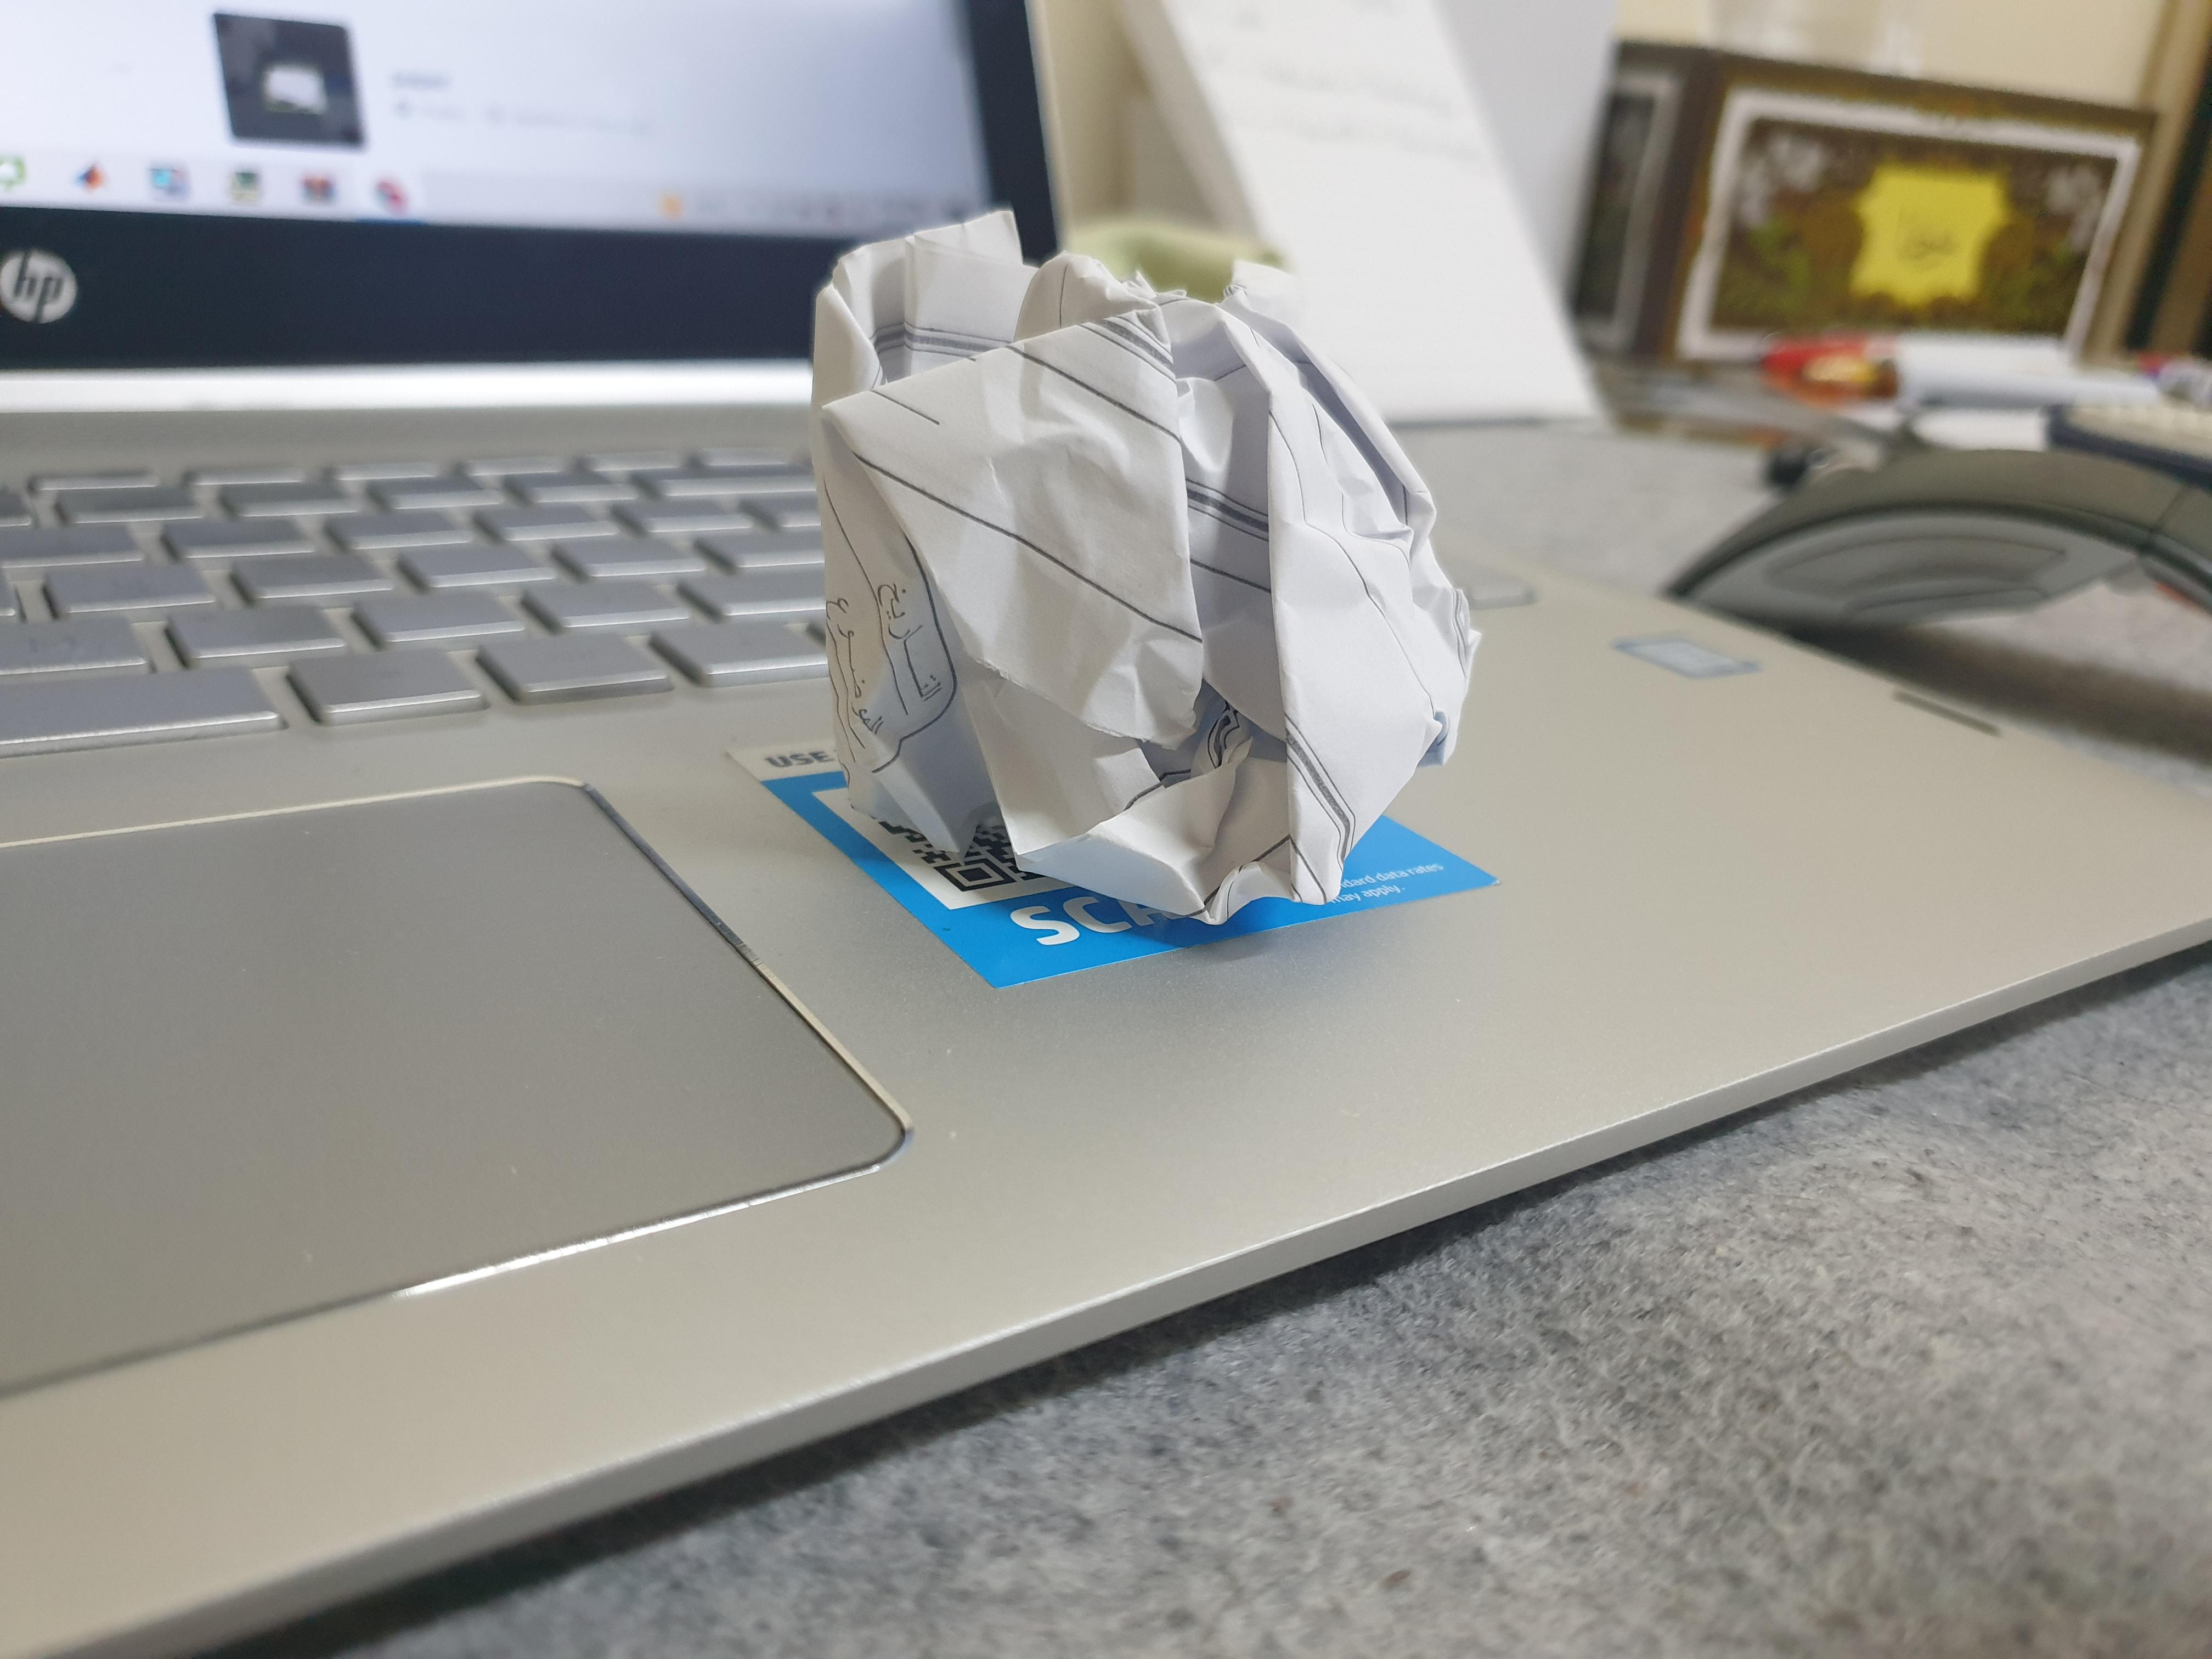Paper: (766, 162, 1515, 954)
